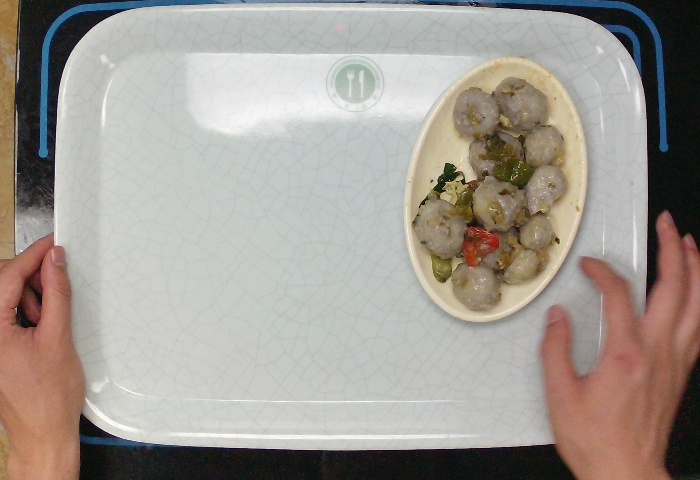JYsf-Tuo_Yuan_Wan: (398, 52, 589, 330)
